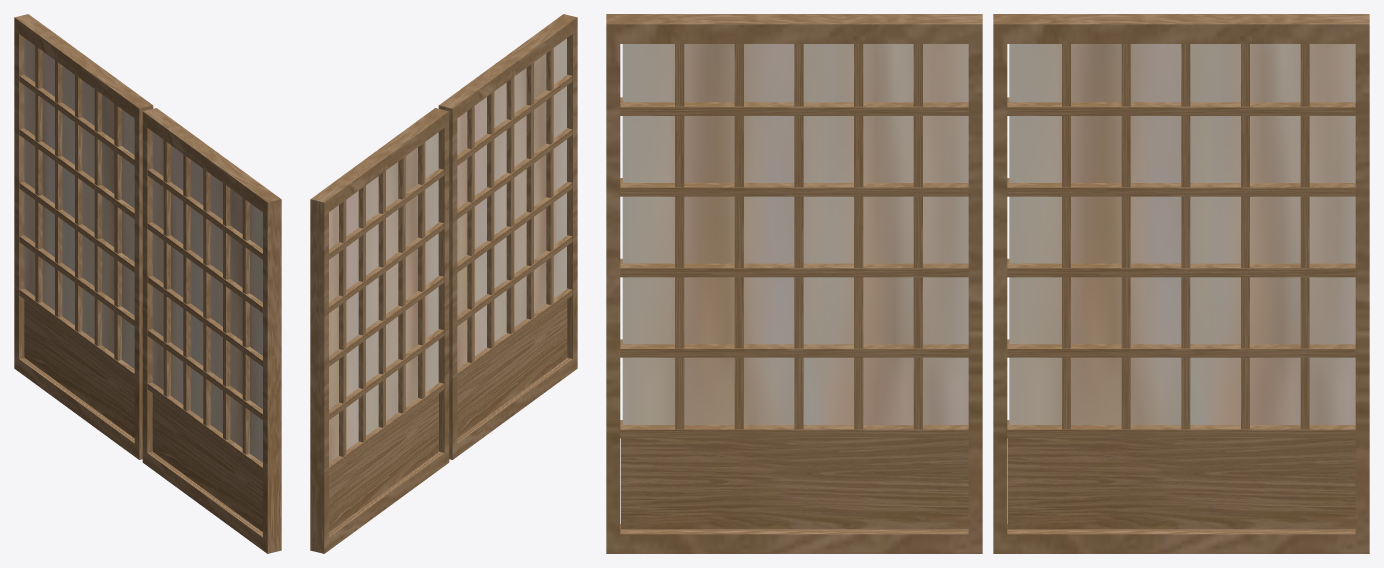
3 views of the same model, side by side, from view 1: azimuth 30°, elevation 25°; view 2: azimuth 150°, elevation 25°; view 3: azimuth 270°, elevation 25° (orthographic). The views are drawn at different scales.
Visible parts, largest first — view 1: 立方体.133, 立方体.134; view 2: 立方体.134, 立方体.133; view 3: 立方体.134, 立方体.133.
Part boxes in pixels (bbox=[...]): 立方体.133: bbox=[142, 108, 281, 553]; 立方体.134: bbox=[14, 14, 153, 459]; 立方体.134: bbox=[310, 108, 449, 553]; 立方体.133: bbox=[438, 14, 577, 459]; 立方体.134: bbox=[993, 14, 1369, 553]; 立方体.133: bbox=[606, 14, 982, 553].
Bounding box in the file's own units: 4.37 × 105 × 138.
4 materials, 4 textured.
